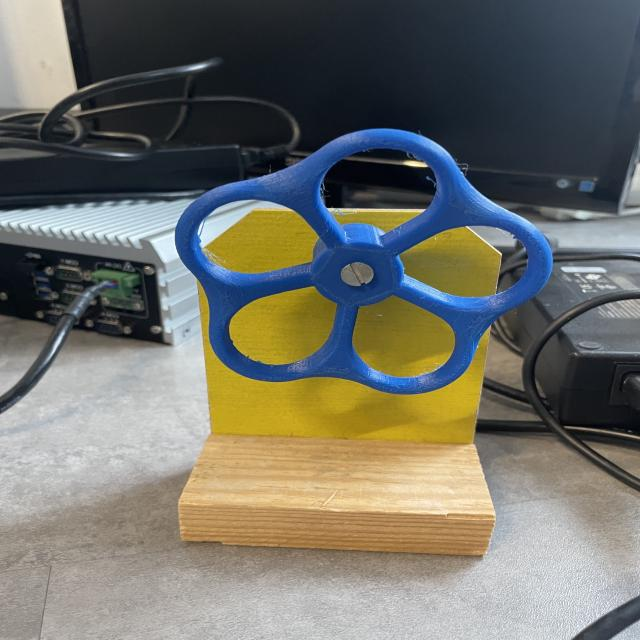Wheel Handle Valve Threaded: (174, 126, 556, 396)
